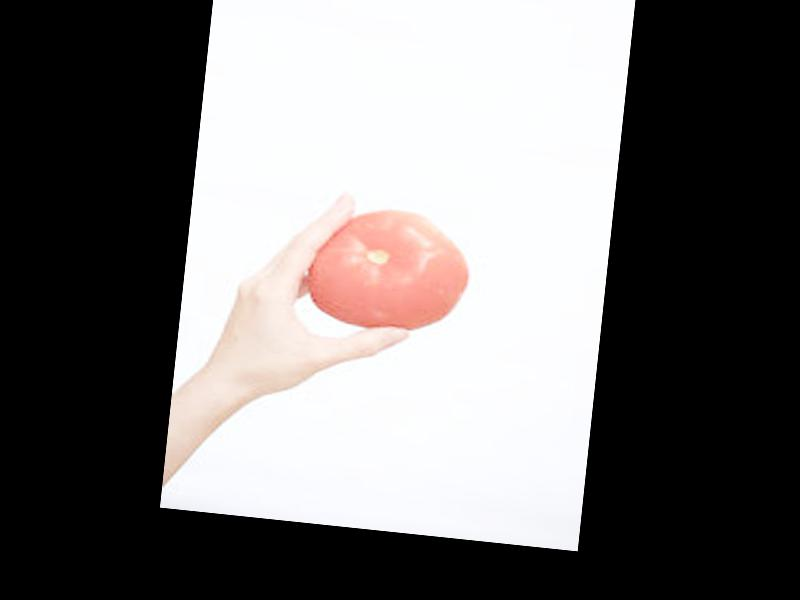Tomato: (307, 201, 473, 337)
